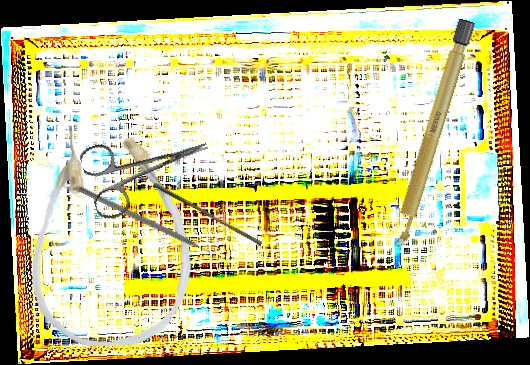Cannula: (26, 121, 195, 349)
Chopper: (73, 185, 221, 267)
Iris Scissors: (77, 112, 220, 223)
Pusher: (150, 182, 265, 247)
Scalpel Handle: (389, 18, 476, 250)
